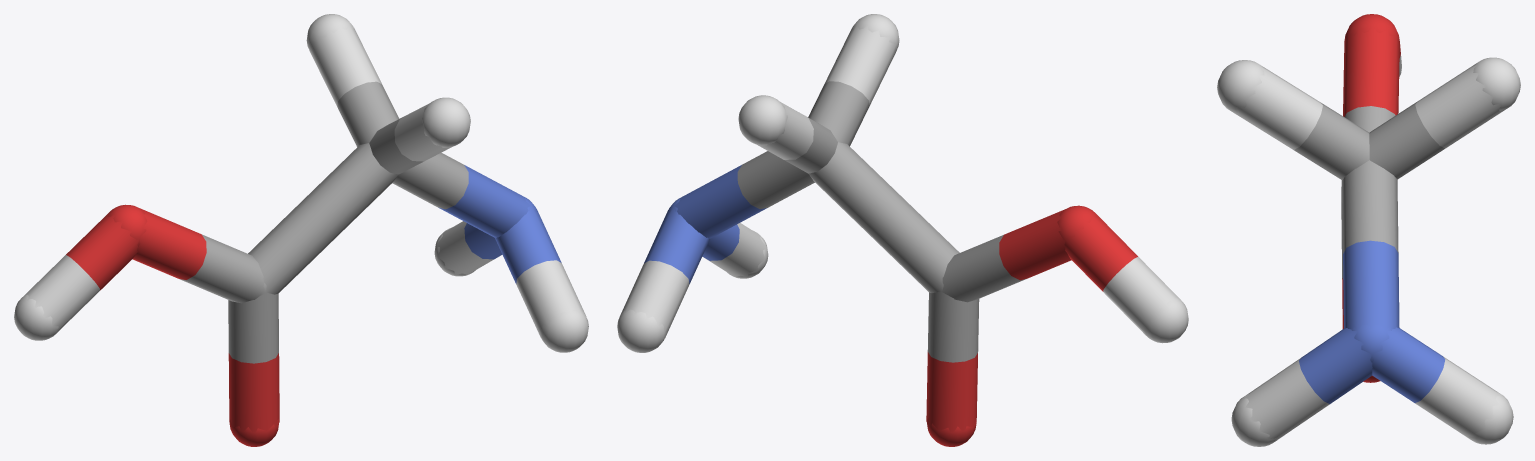
Rendered from glycine-sticks.glb.
3 renders of one model, left to right at view 1: azimuth 30°, elevation 25°; view 2: azimuth 150°, elevation 25°; view 3: azimuth 270°, elevation 25°, orthographic. The views are drawn at different scales.
Visible parts, largest first — view 1: glycine-sticks; view 2: glycine-sticks; view 3: glycine-sticks.
Part boxes in pixels (box(x1,y1,x2,y2)): glycine-sticks: box(14, 14, 588, 446); glycine-sticks: box(617, 14, 1188, 446); glycine-sticks: box(1217, 14, 1520, 446).
Bounding box in the file's own units: 4.75 × 3.11 × 2.19.
